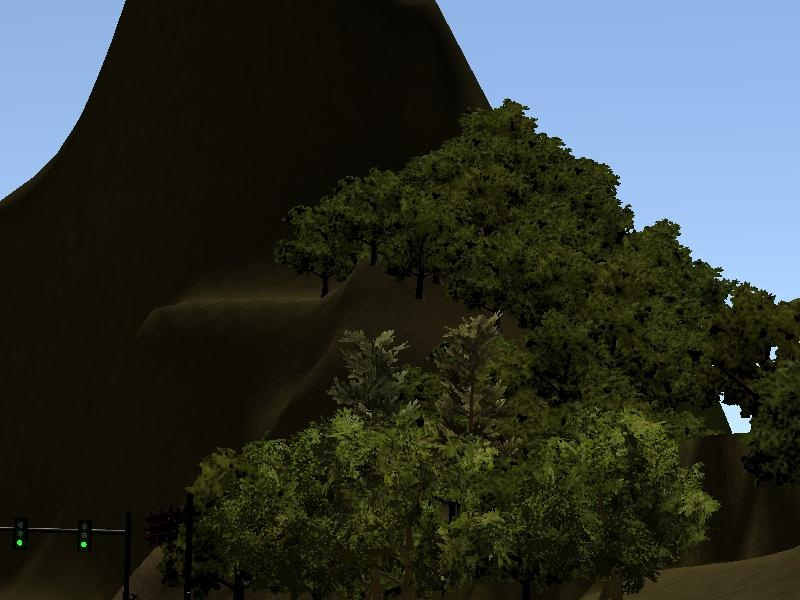GREEN: (75, 515, 91, 553), (13, 516, 27, 550)
